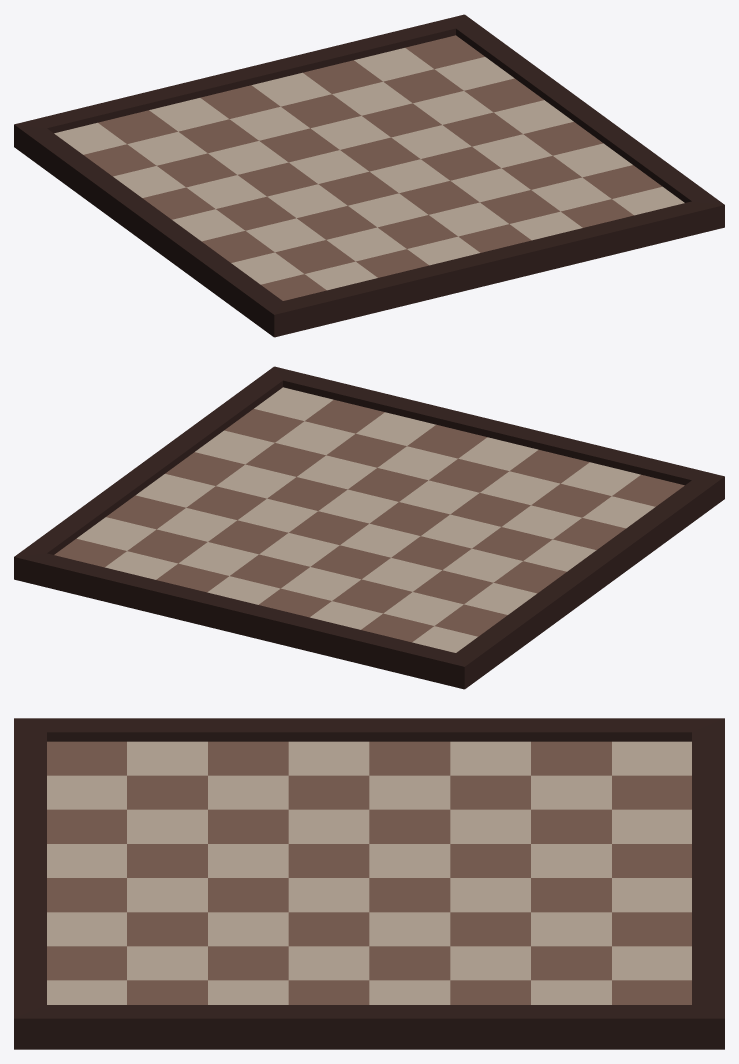
The model's file is board.obj.
3 views of the same model, one above another, from view 1: azimuth 30°, elevation 25°; view 2: azimuth 150°, elevation 25°; view 3: azimuth 270°, elevation 25° (orthographic). The views are drawn at different scales.
Parts seen in each view (by area): view 1: Board, Base; view 2: Board, Base; view 3: Board, Base.
Boxes of the visible parts, x1,y1,x2,y2 form: Board: [54, 35, 684, 300]; Base: [14, 14, 724, 337]; Board: [54, 387, 684, 652]; Base: [14, 366, 724, 689]; Board: [47, 741, 691, 1004]; Base: [14, 718, 724, 1049].
Size of the model in its own units: 8.8 by 0.4221 by 8.8.
Materials: 2 (1 with a texture image).
